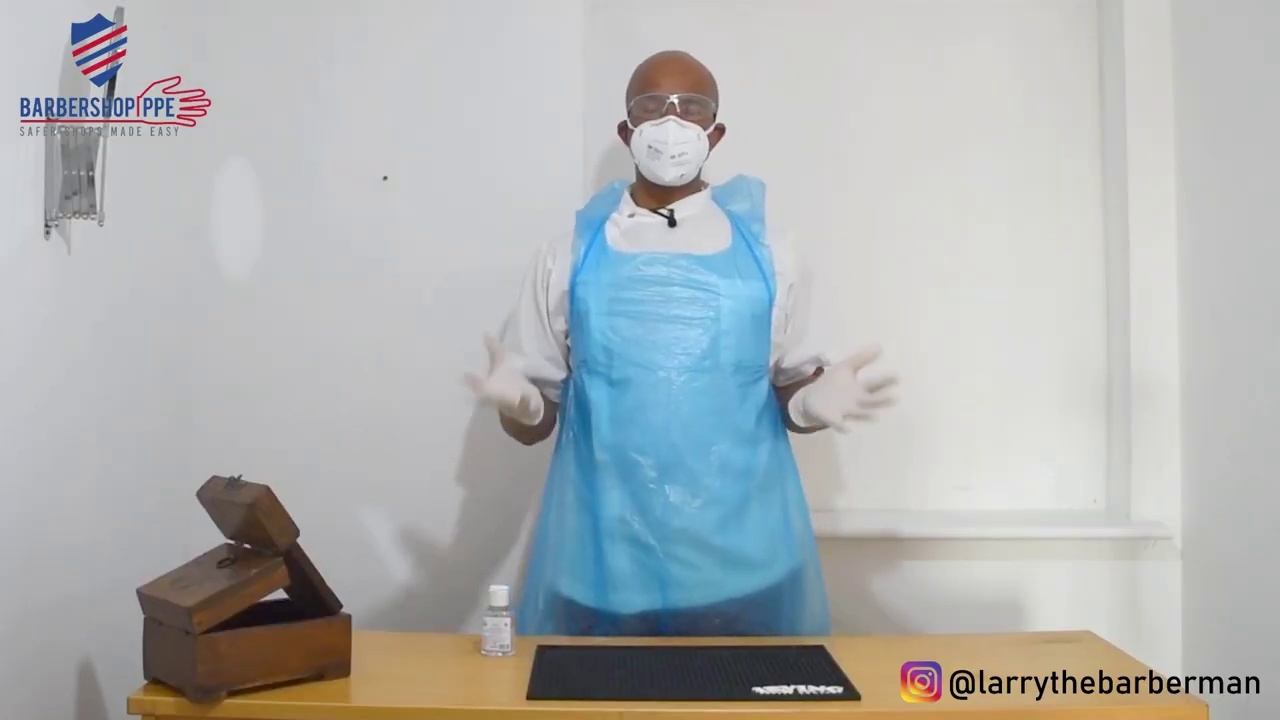Apron: (549, 170, 824, 641)
Glove: (453, 307, 546, 443), (807, 316, 896, 446)
Mask: (618, 118, 727, 189)
No_Hairnet: (617, 44, 727, 100)
